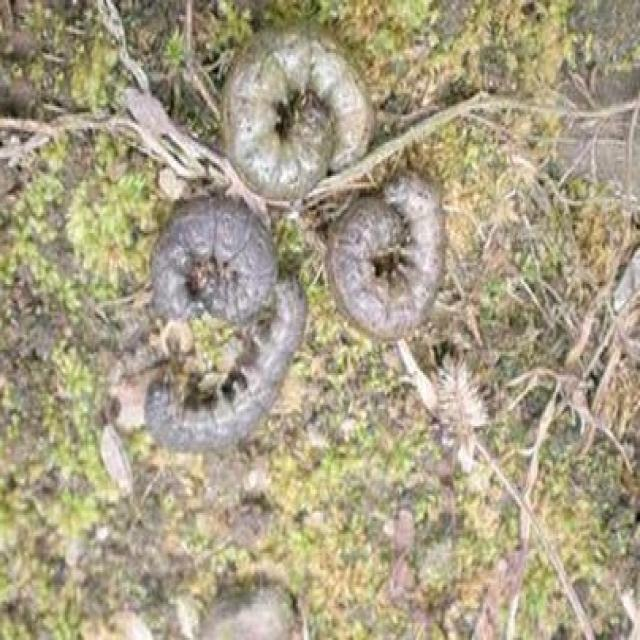black cutworm: (144, 249, 312, 474), (202, 30, 377, 206), (312, 164, 441, 338), (147, 194, 280, 334)
